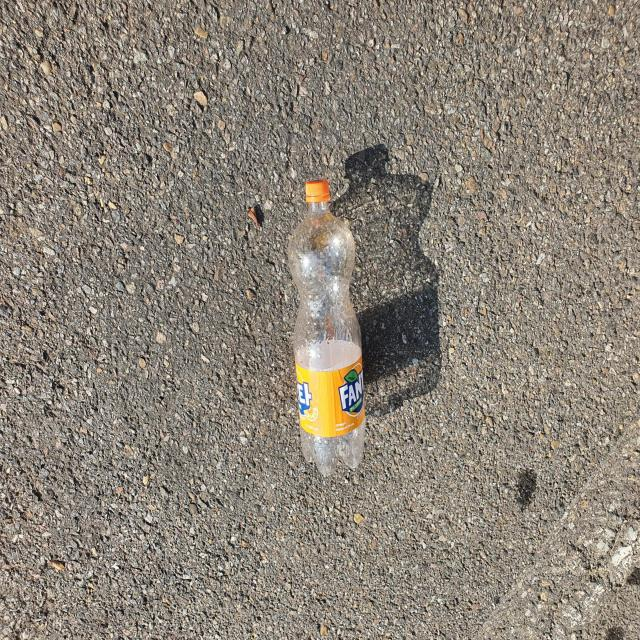plastic: (288, 180, 366, 476)
